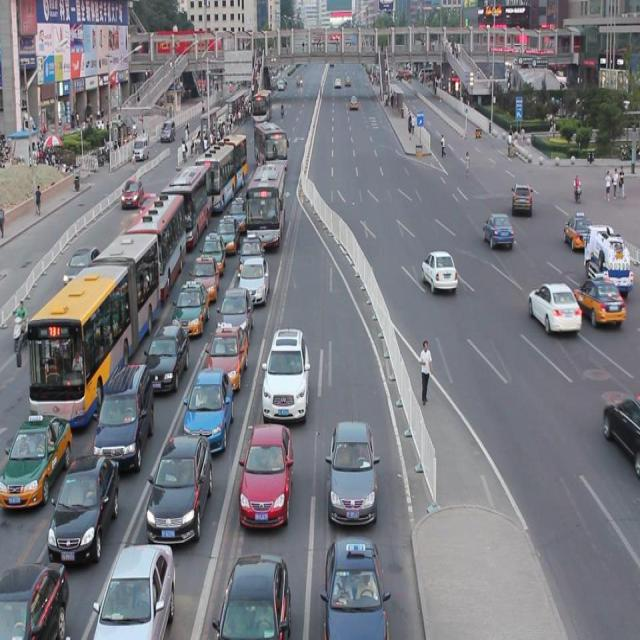bus: (583, 222, 632, 294)
car: (94, 538, 175, 640), (48, 452, 120, 554), (321, 535, 389, 640), (148, 428, 213, 536), (214, 551, 290, 640), (0, 411, 70, 503), (94, 358, 154, 461), (0, 554, 68, 640), (327, 417, 380, 517), (240, 422, 294, 517), (262, 325, 310, 415), (185, 364, 233, 442), (146, 317, 189, 386), (601, 392, 640, 466), (526, 282, 581, 334), (573, 272, 624, 327), (205, 320, 248, 384), (218, 284, 254, 339), (174, 278, 210, 330), (421, 250, 456, 290), (241, 252, 270, 298), (190, 250, 220, 294), (64, 248, 98, 282), (482, 213, 513, 249), (200, 229, 226, 269), (562, 212, 590, 248), (240, 228, 263, 270), (216, 210, 239, 246), (227, 191, 250, 226), (510, 182, 532, 214), (121, 180, 144, 206), (141, 191, 156, 214)
van: (16, 230, 160, 421), (123, 187, 186, 296), (197, 125, 247, 203), (246, 160, 286, 248), (168, 158, 208, 241), (254, 122, 288, 174)
